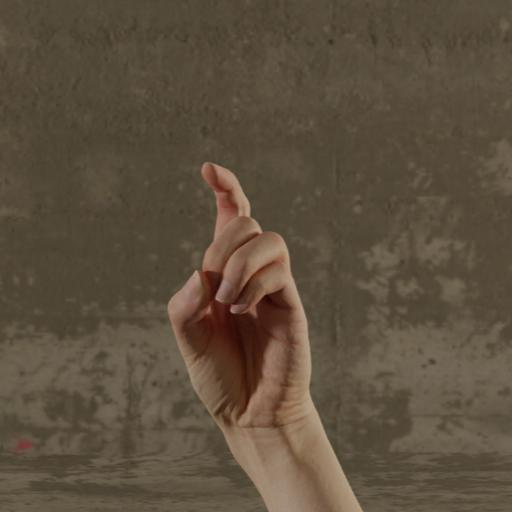X: (153, 157, 328, 451)
